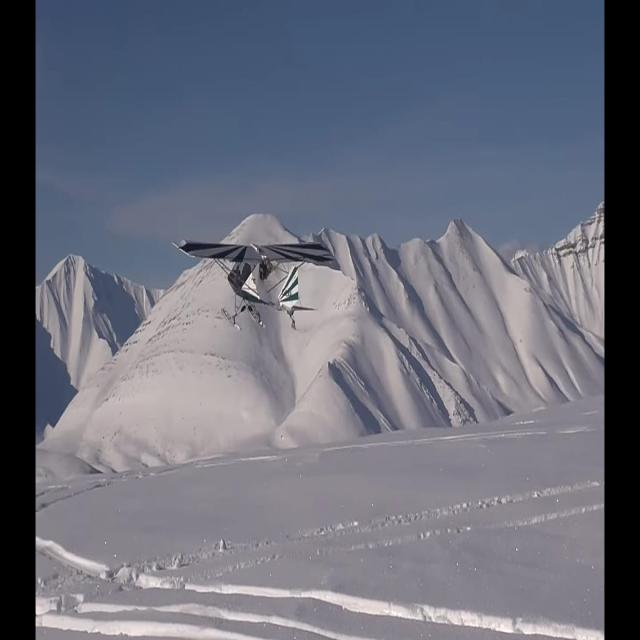iha: (171, 267, 337, 303)
